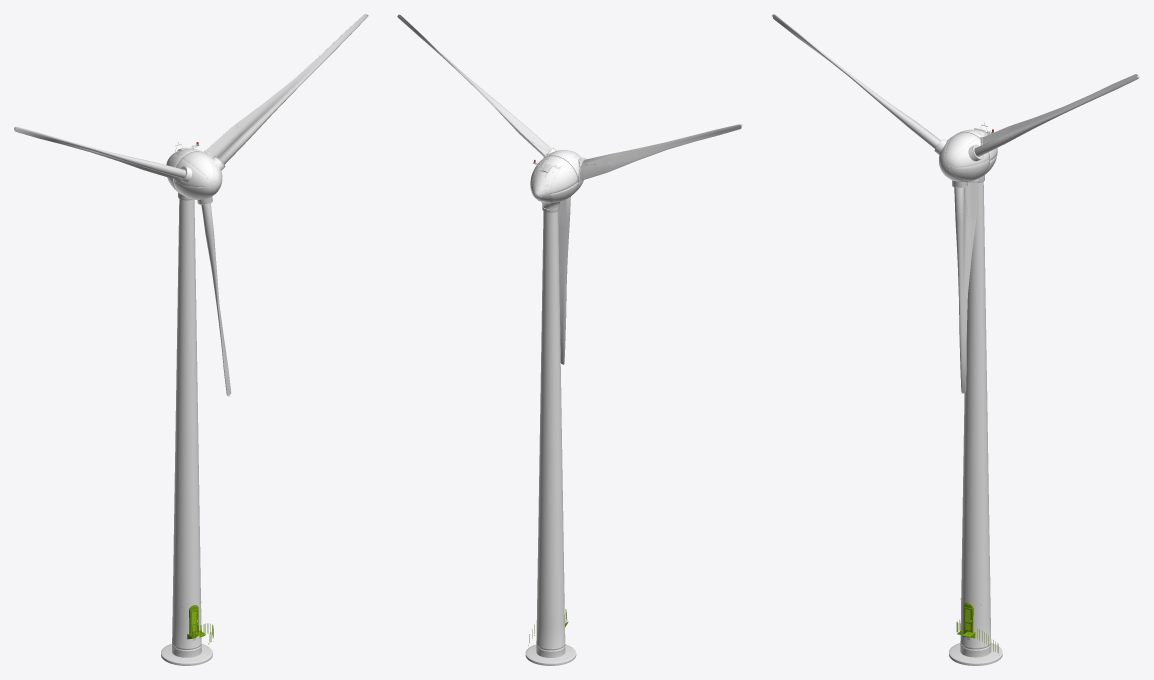
The model's file is turbine-a.glb.
The picture shows the model from 3 angles, left to right: view 1: azimuth 30°, elevation 25°; view 2: azimuth 150°, elevation 25°; view 3: azimuth 330°, elevation 25°; orthographic projection. The views are drawn at different scales.
Parts seen in each view (by area): view 1: Circle, Moyeux, Socle; view 2: Circle, Moyeux, Cadre, Socle; view 3: Circle, Moyeux, Socle.
Part boxes in pixels (box(x1,y1,x2,y2)): Circle: box(172, 199, 201, 657); Moyeux: box(14, 14, 368, 396); Socle: box(161, 644, 212, 665); Circle: box(536, 211, 565, 657); Moyeux: box(397, 14, 742, 364); Cadre: box(530, 156, 577, 209); Socle: box(525, 644, 576, 665); Circle: box(960, 181, 991, 657); Moyeux: box(772, 14, 1139, 393); Socle: box(949, 643, 1002, 665).
Size of the model in its own units: 68.22 by 112 by 14.54.
